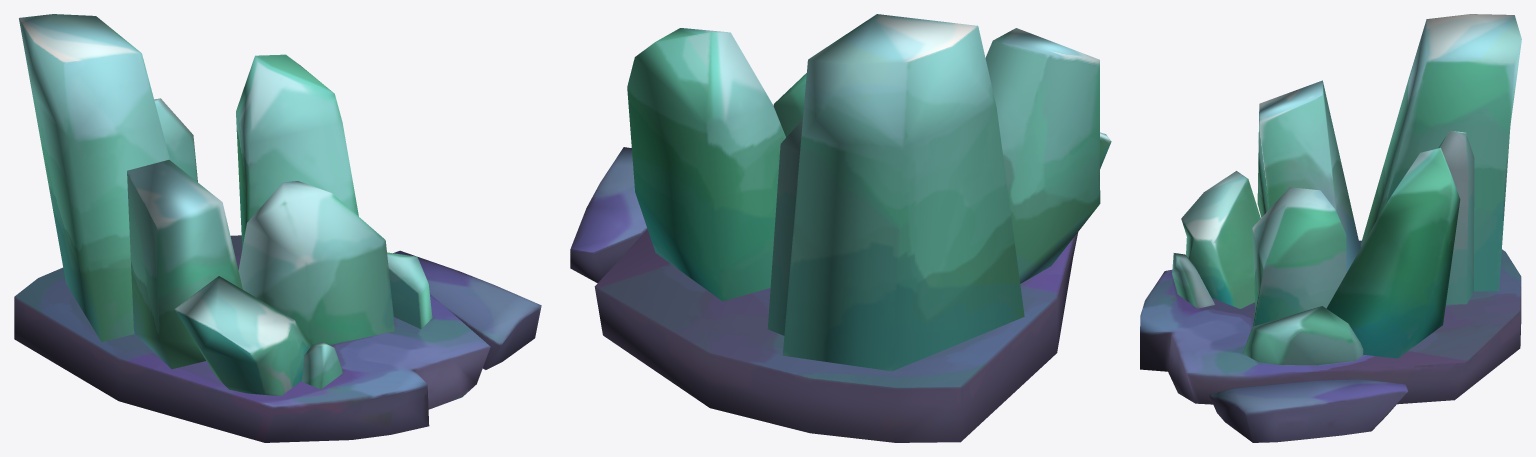
Rendered from SM_s17abc.fbx.
The picture shows the model from 3 angles, left to right: view 1: azimuth 30°, elevation 25°; view 2: azimuth 150°, elevation 25°; view 3: azimuth 270°, elevation 25°; orthographic projection. The views are drawn at different scales.
Visible parts, largest first — view 1: S17a; view 2: S17a; view 3: S17a.
Part boxes in pixels (x1,y1,x2,y2): S17a: (14,14,541,442); S17a: (570,14,1111,442); S17a: (1140,14,1521,442).
Size of the model in its own units: 173 by 127 by 163.
Materials: 1 (1 with a texture image).
